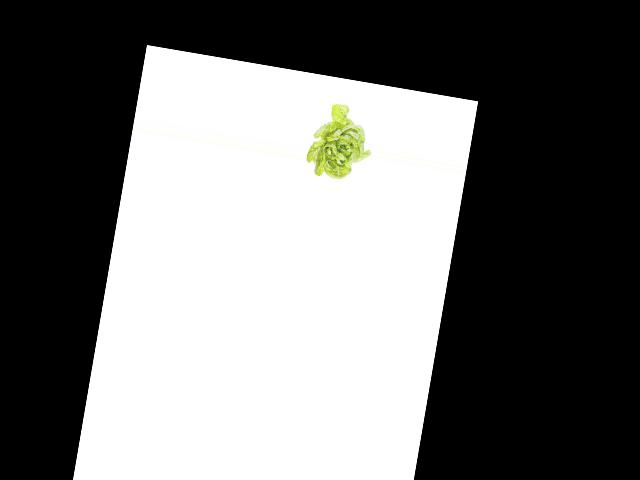lettuce: (305, 97, 378, 185)
